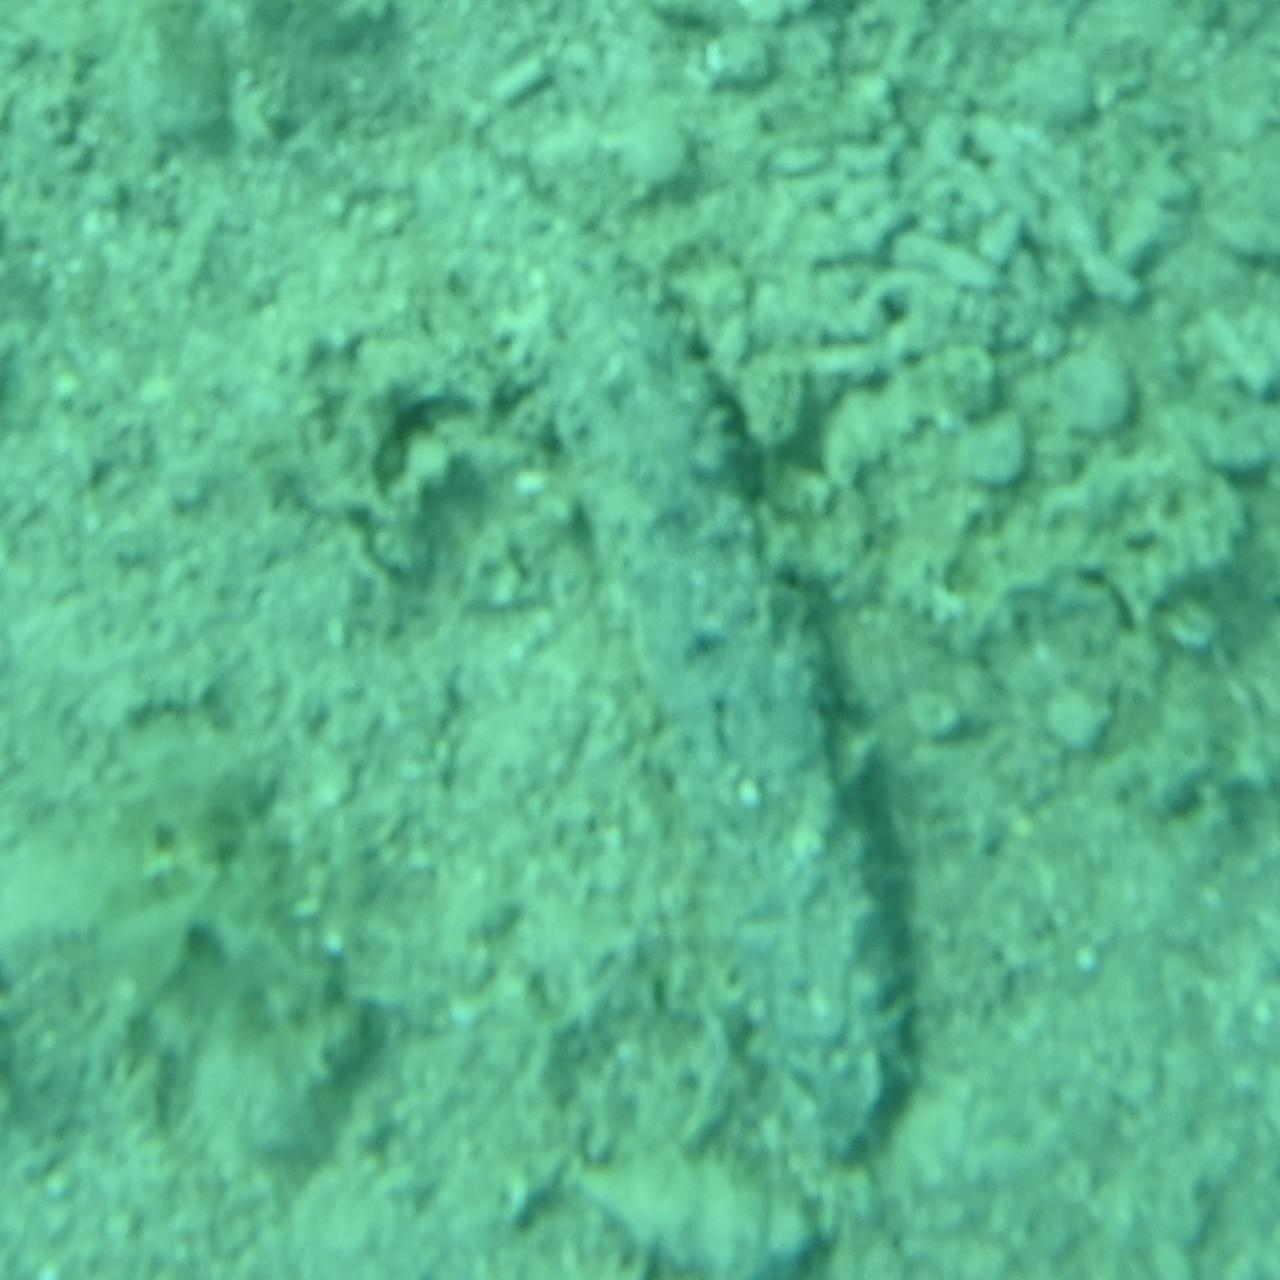Holothuria tubulosa: (342, 100, 938, 1180)
